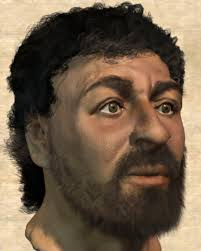middle_eastern_male: (29, 43, 193, 222)
